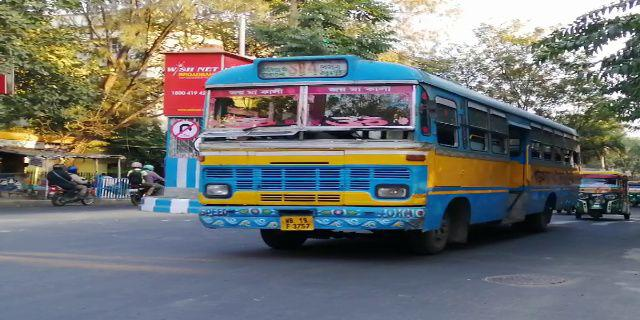Autorickshaw: (577, 168, 636, 229)
Bus: (193, 50, 581, 254)
Motorbike: (38, 161, 100, 212)
